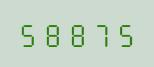eight: (41, 20, 63, 47), (64, 20, 86, 47)
five: (18, 20, 40, 47), (110, 20, 132, 47)
seven: (87, 20, 109, 47)
